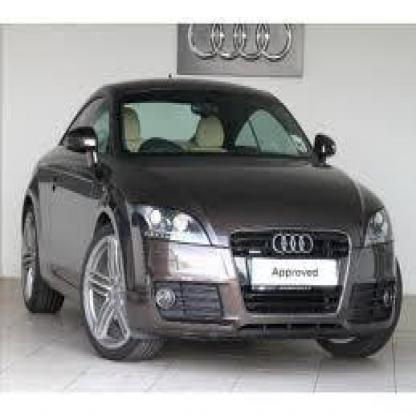Vehicle: (19, 77, 408, 365)
